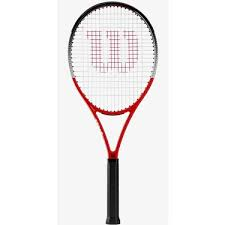tennis racket: (66, 1, 160, 223)
